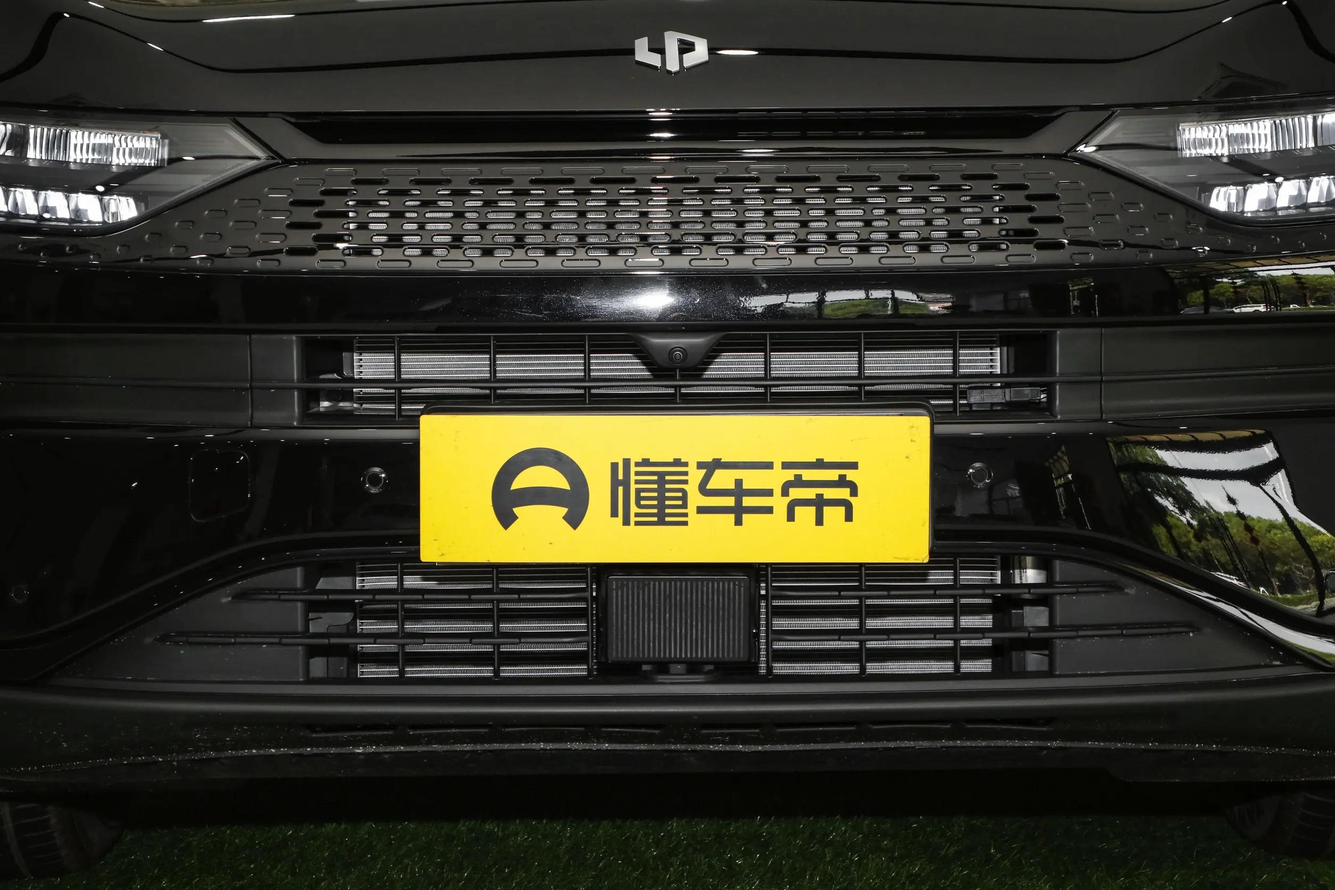LEAPMOTOR: (633, 29, 709, 74)
